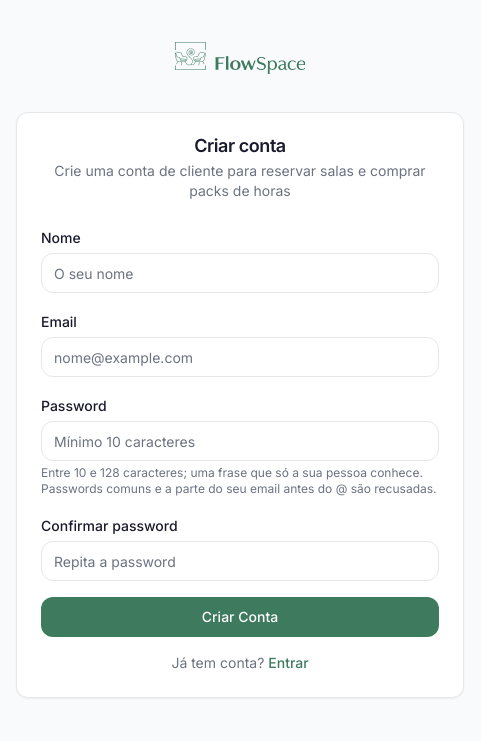
Customer signup failures › keeps a rejected enrollment on the form without starting a session
Step 1. Type "Test User" into the field labelled "Nome" → (240, 273), box [41,253,439,293]
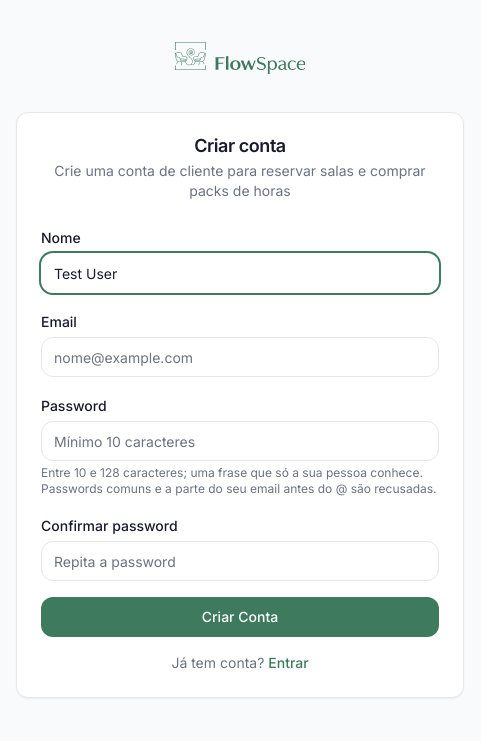
Step 2. Type "test@example.com" into the field labelled "Email" → (240, 357), box [41,337,439,377]
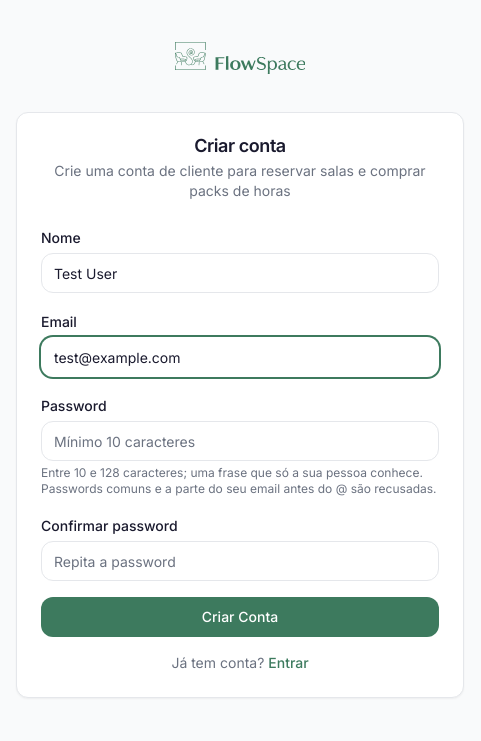
Step 3. Type "password123" into the password field labelled "Password" → (240, 441), box [41,421,439,461]
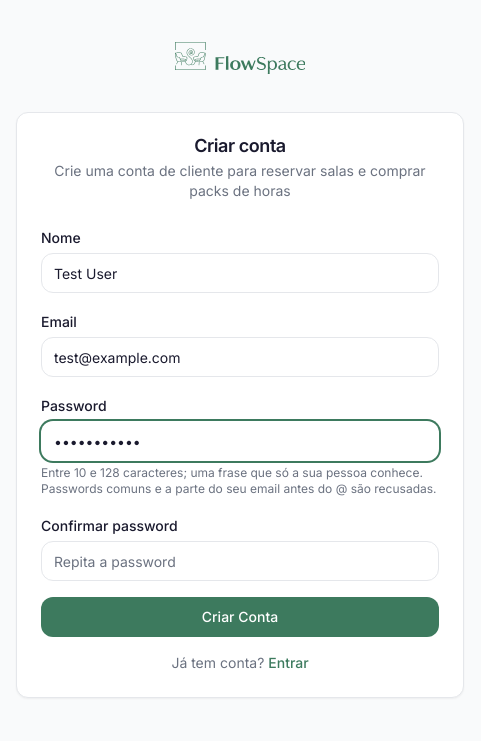
Step 4. Type "password123" into the password field labelled "Confirmar password" → (240, 561), box [41,541,439,581]
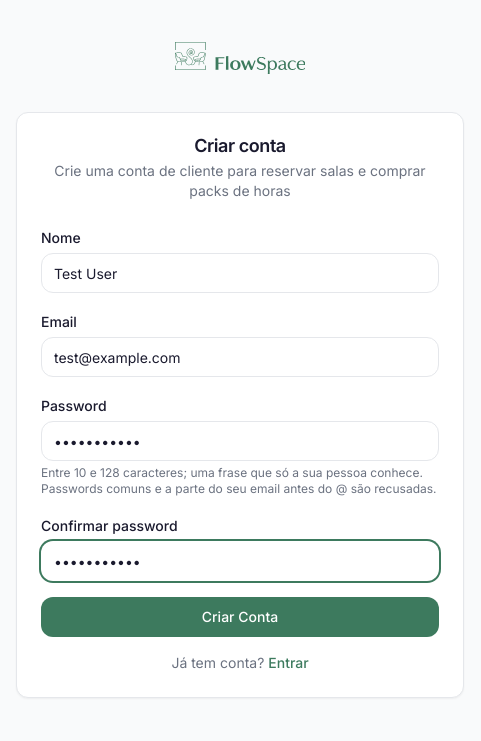
Step 5. Click the button "Criar Conta" → (240, 617), box [41,597,439,637]
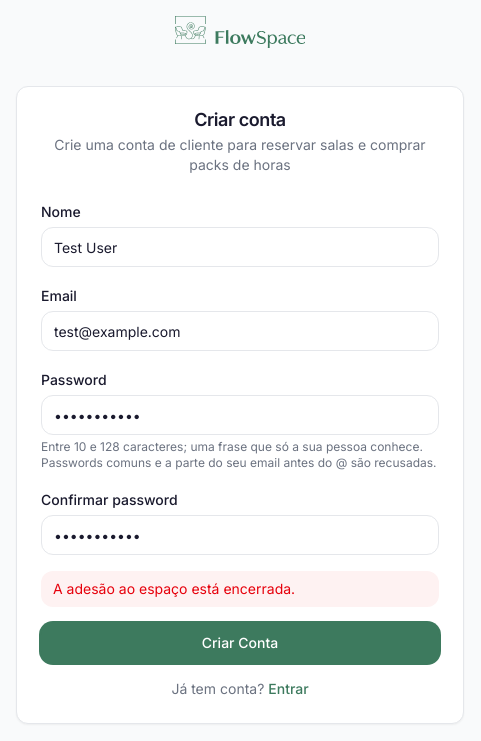
Expected: the button "Criar Conta" is enabled, [41,623,439,663]
Expected: the message reads "A adesão ao espaço está encerrada.", [53,580,295,597]
